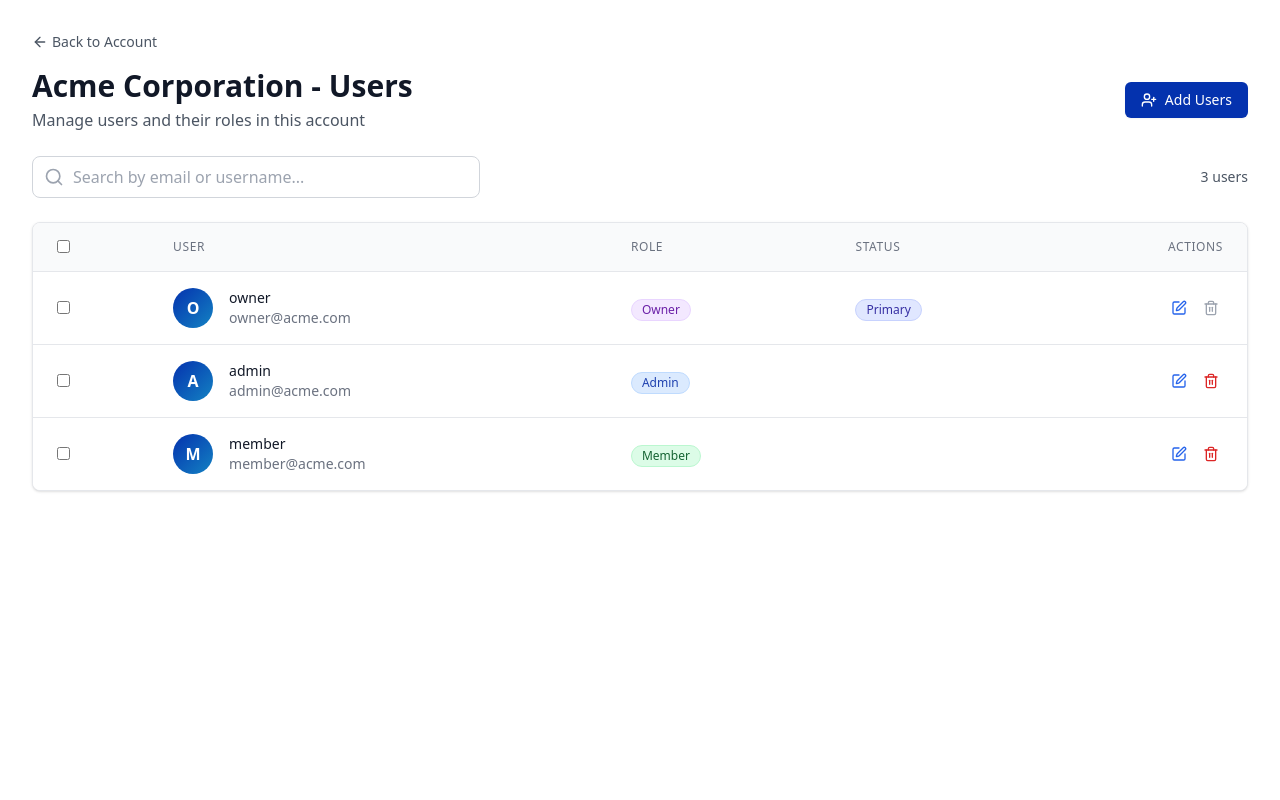
AccountUserManager › should open add users modal when add button clicked
Expected: the text "owner@acme.com" is shown, [229,308,351,328]
Click the button "Add Users".
click(1186, 100)  # box [1125,82,1248,118]
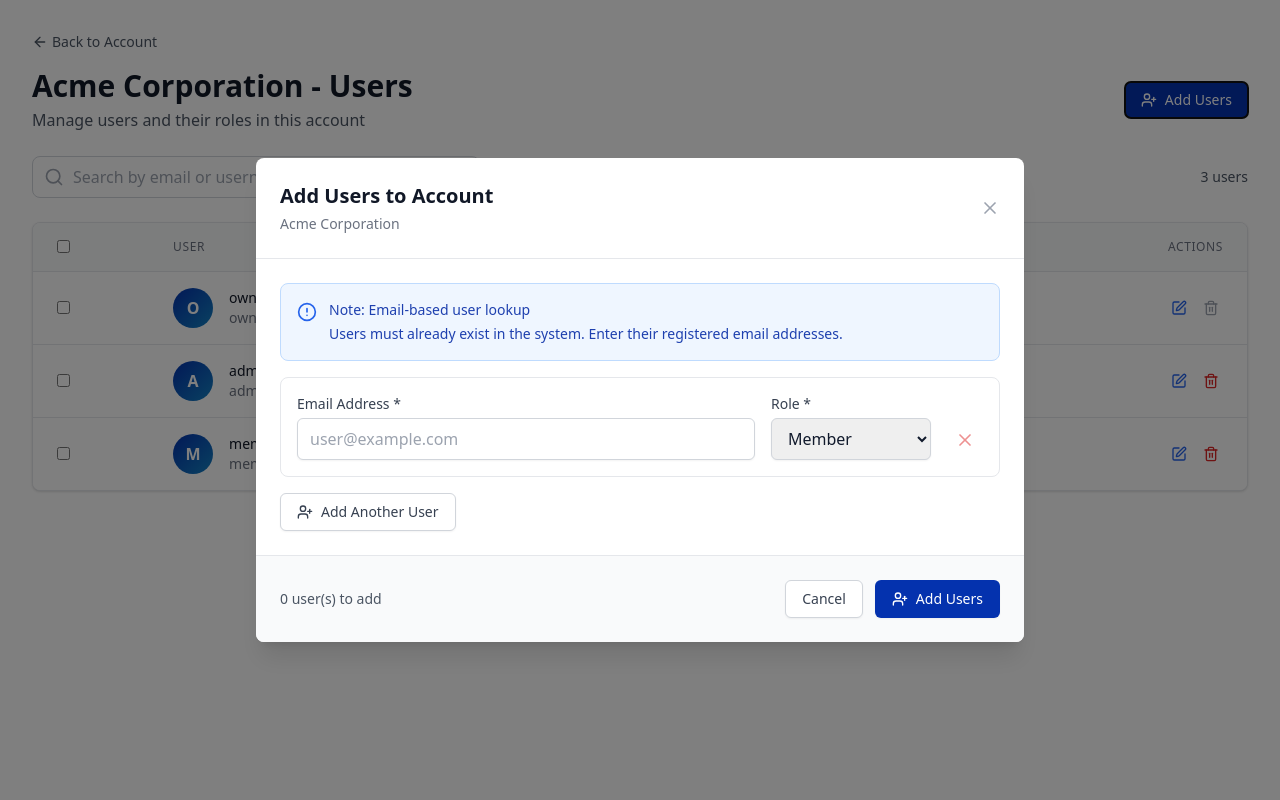
Expected: the heading "Add Users to Account" is shown, [280,182,493,210]
